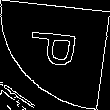P_E: (24, 33, 86, 77)
